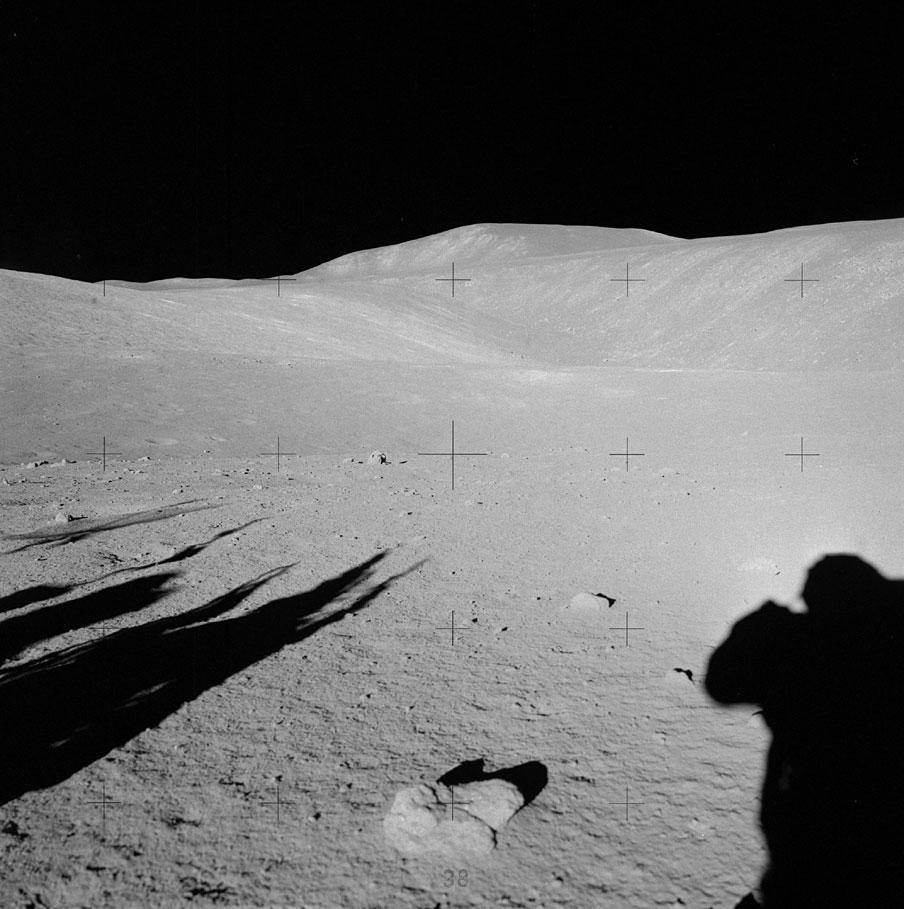rock: (383, 778, 524, 857)
